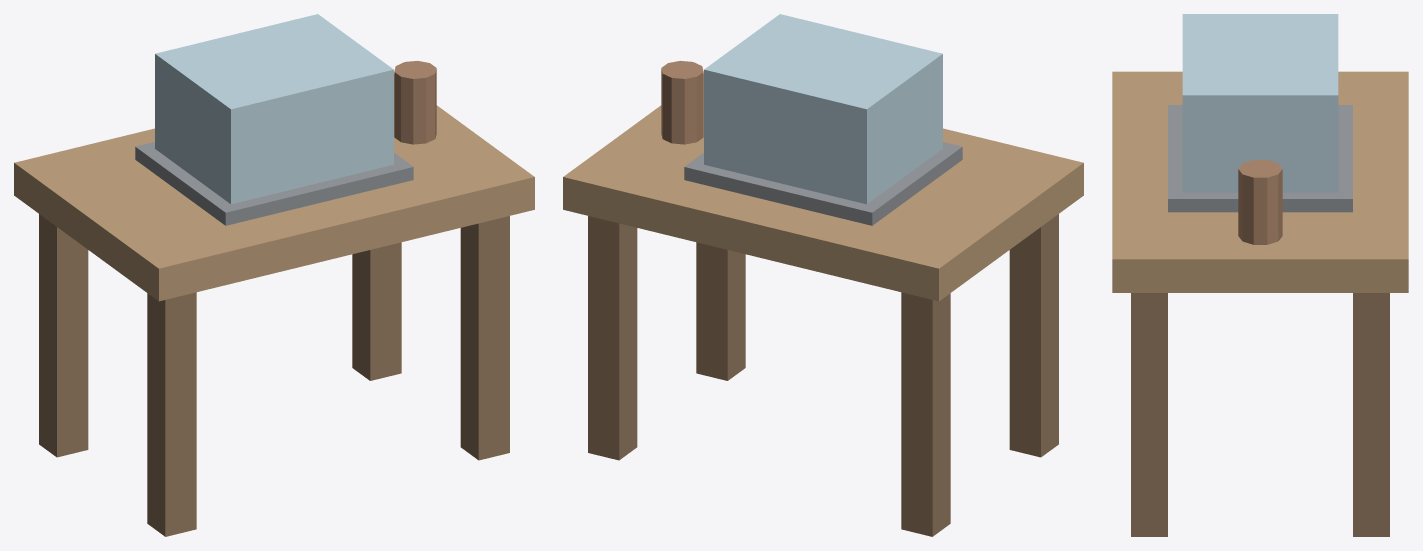
Rendered from research_table.glb.
3 views of the same model, side by side, from view 1: azimuth 30°, elevation 25°; view 2: azimuth 150°, elevation 25°; view 3: azimuth 270°, elevation 25° (orthographic). The views are drawn at different scales.
Parts seen in each view (by area): view 1: research_table; view 2: research_table; view 3: research_table.
Boxes of the visible parts, box(x1,y1,x2,y2) form: research_table: box(14, 14, 534, 536); research_table: box(563, 14, 1083, 536); research_table: box(1112, 14, 1408, 536).
Size of the model in its own units: 1.2 by 1.18 by 0.8.
